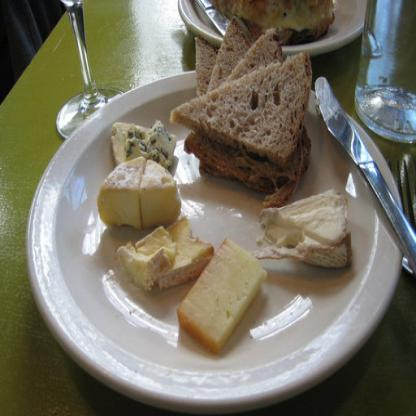bread: (180, 34, 308, 190)
